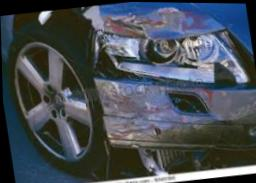Bonnet: (24, 1, 224, 36)
Bumper: (91, 74, 256, 152)
Light: (93, 27, 252, 84)
